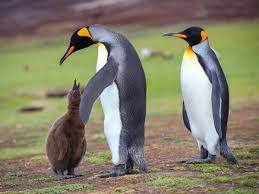king: (53, 22, 160, 186), (162, 15, 241, 165)
